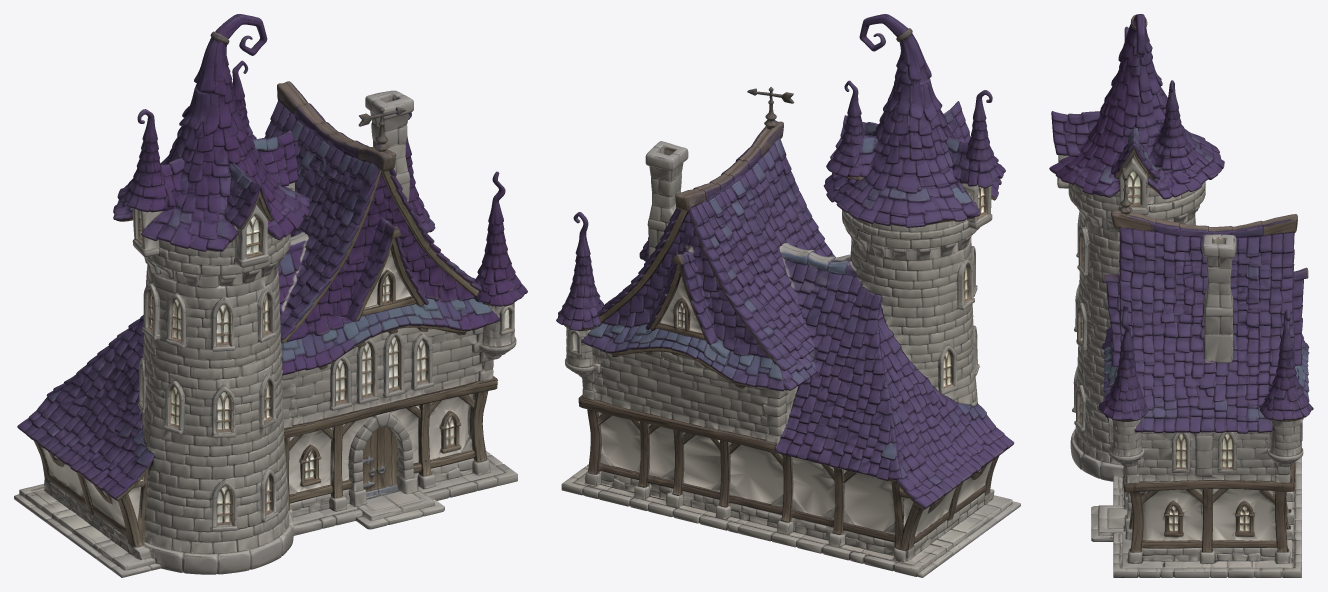
The model's file is SilverAcademy_300k.glb.
The picture shows the model from 3 angles, left to right: view 1: azimuth 30°, elevation 25°; view 2: azimuth 150°, elevation 25°; view 3: azimuth 270°, elevation 25°; orthographic projection. The views are drawn at different scales.
Visible parts, largest first — view 1: Mesh_0; view 2: Mesh_0; view 3: Mesh_0.
Boxes of the visible parts, box(x1,y1,x2,y2) form: Mesh_0: box(14, 14, 527, 577); Mesh_0: box(556, 14, 1020, 577); Mesh_0: box(1049, 14, 1313, 577).
Bounding box in the file's own units: 1.57 × 1.9 × 1.01.
1 material, 1 textured.
